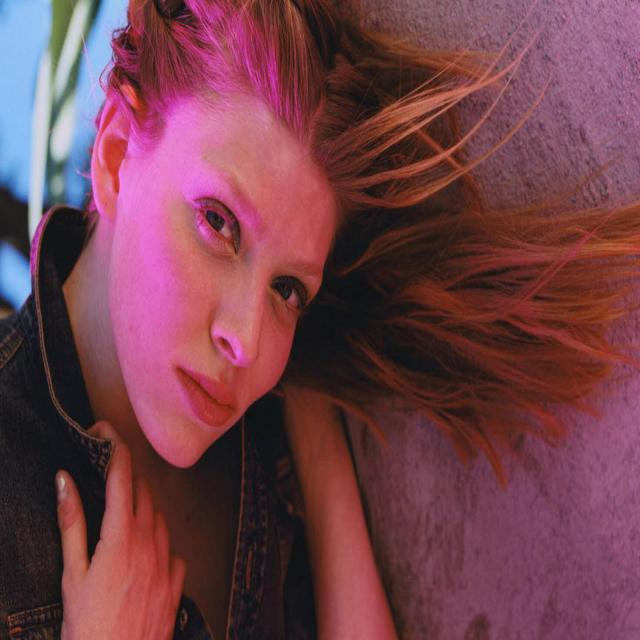no-earmuff: (83, 69, 154, 230)
